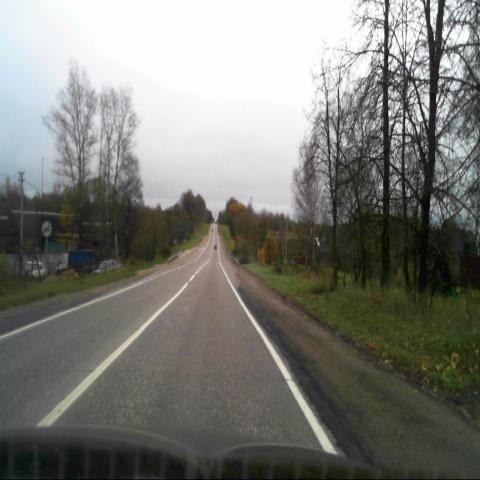3_21: (42, 219, 52, 237)
